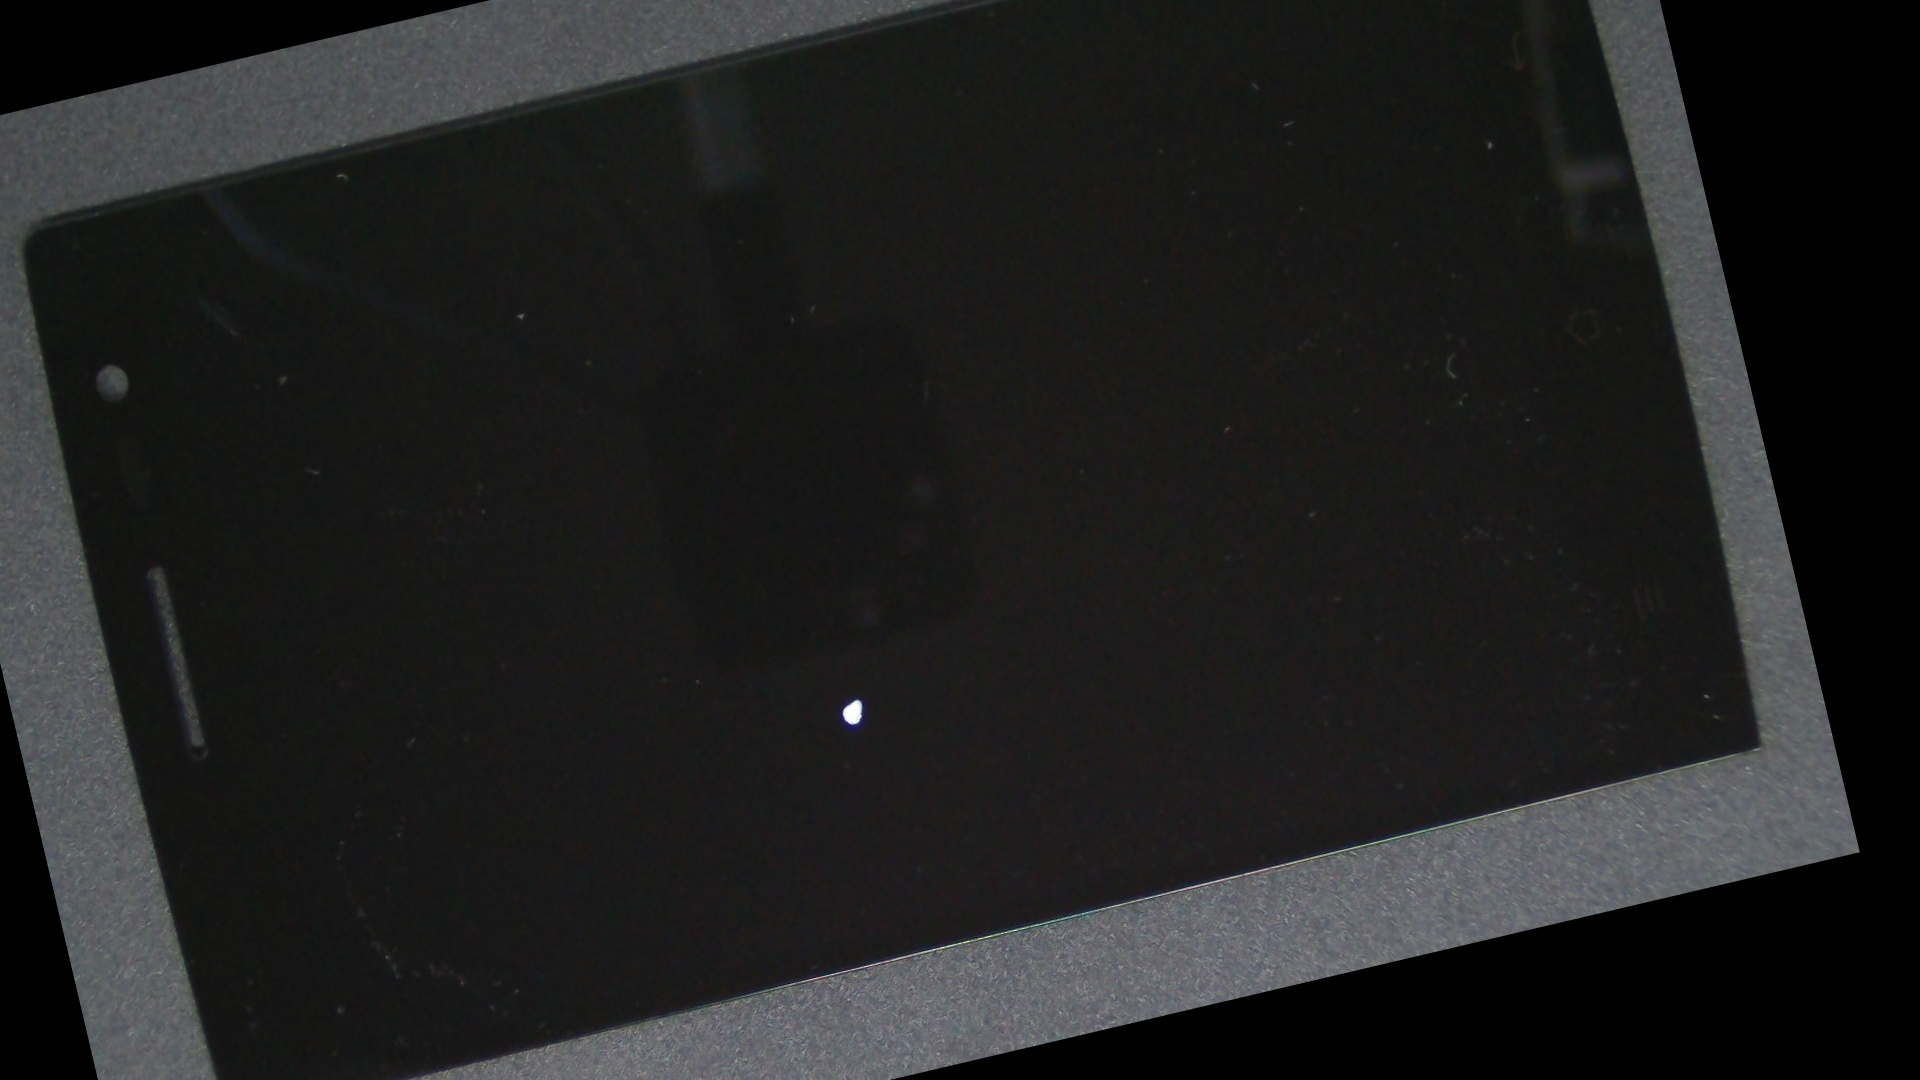oil: (367, 232, 1344, 1080)
